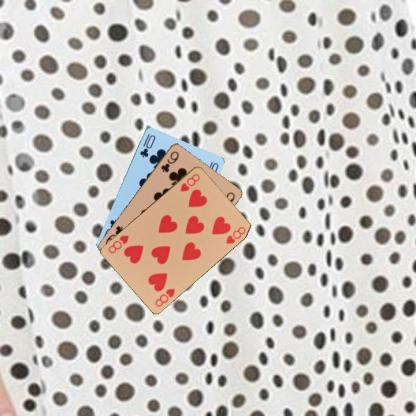10c: (137, 131, 157, 158)
8h: (153, 285, 176, 308), (177, 171, 201, 192)
9c: (158, 148, 180, 174)
